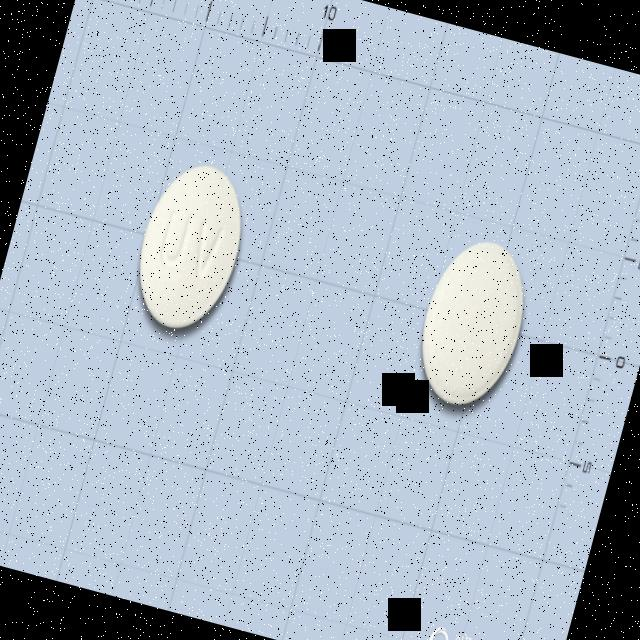Unilevo Tab: (123, 151, 260, 340)
